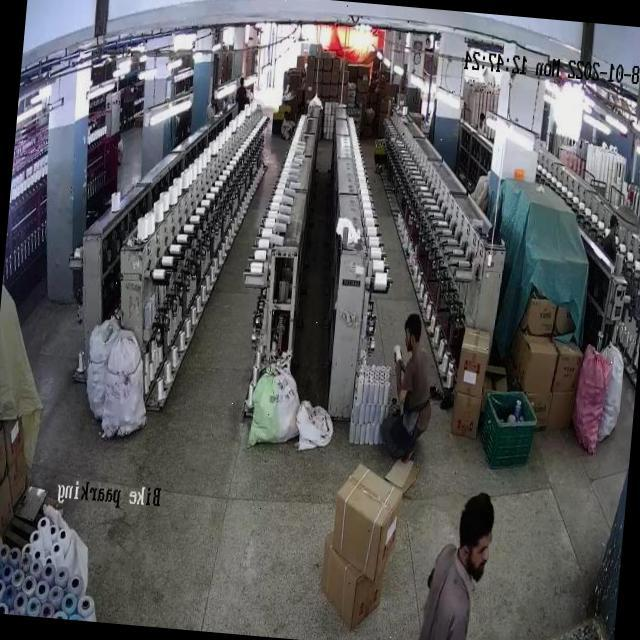person: (413, 488, 495, 640), (382, 308, 432, 452), (602, 212, 620, 250), (234, 74, 247, 110)
